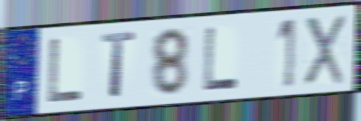1: (274, 15, 298, 90)
8: (149, 25, 193, 98)
L: (45, 37, 86, 106), (201, 25, 240, 93)
T: (100, 29, 138, 100)
X: (302, 13, 347, 88)
